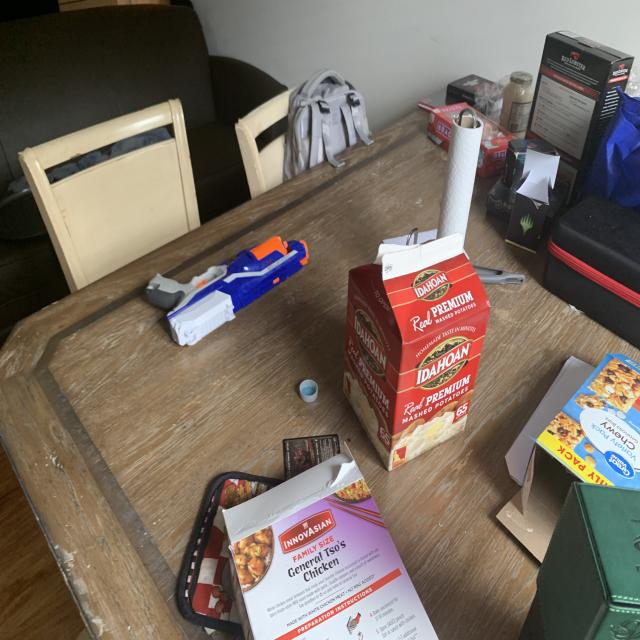nerf-maverik: (141, 228, 315, 350)
